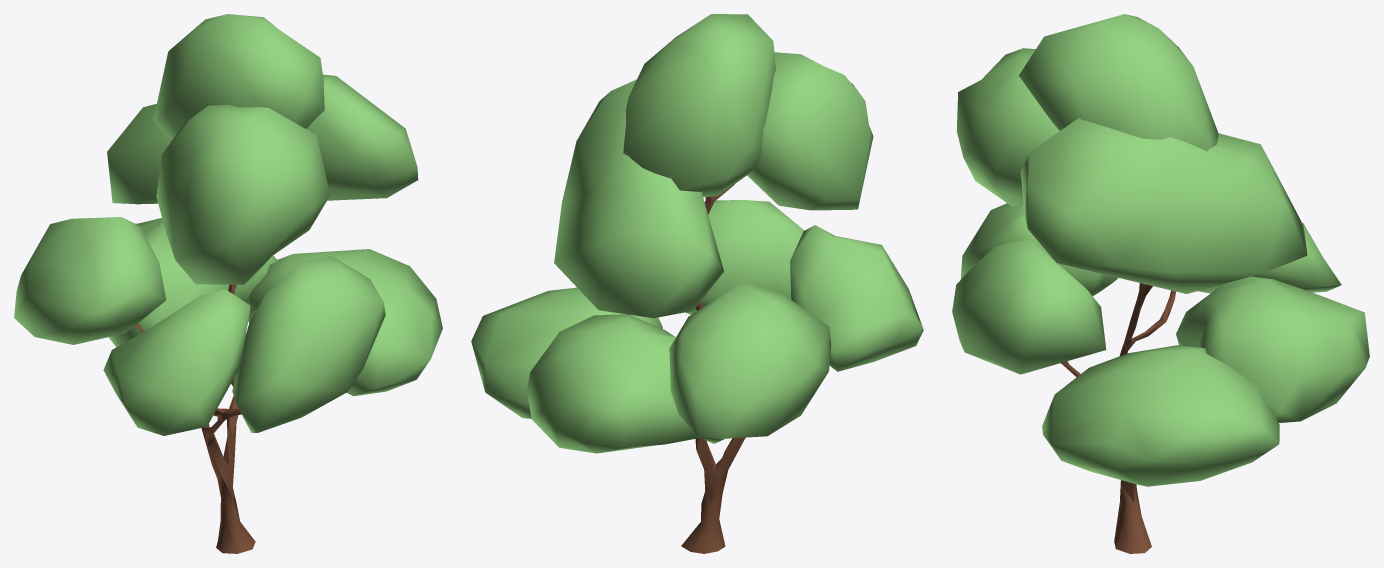
The model's file is arvore_pacote.glb.
The picture shows the model from 3 angles, left to right: view 1: azimuth 30°, elevation 25°; view 2: azimuth 150°, elevation 25°; view 3: azimuth 270°, elevation 25°; orthographic projection. The views are drawn at different scales.
Visible parts, largest first — view 1: arvore_pacote; view 2: arvore_pacote; view 3: arvore_pacote.
Part boxes in pixels (left/top/right/bottom): arvore_pacote: left=14, top=14, right=442, bottom=553; arvore_pacote: left=471, top=14, right=923, bottom=553; arvore_pacote: left=952, top=14, right=1369, bottom=553.
Size of the model in its own units: 6.68 by 9.04 by 6.52.
Materials: 1 (1 with a texture image).
